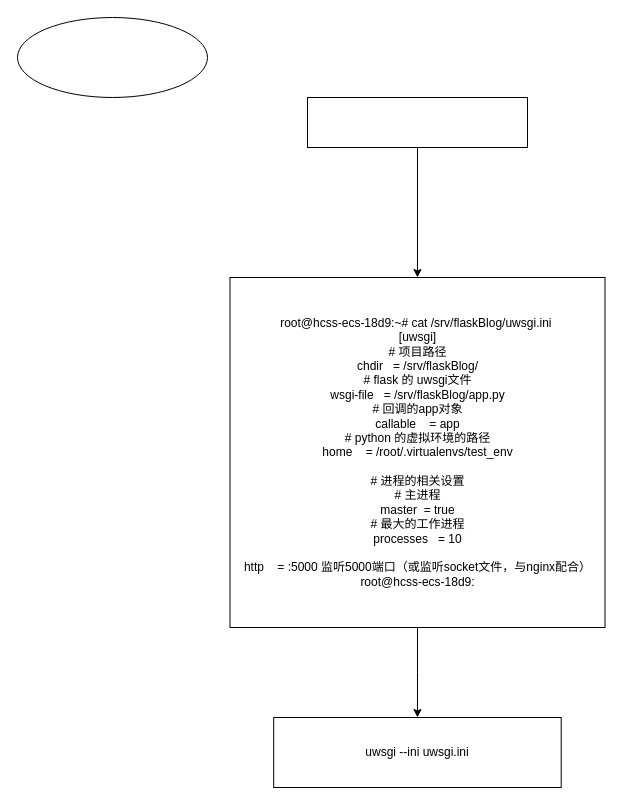
This 623x805 diagram has some shape labels left out. The shapes that lost their labels are listed below. From the top down, each one's centre as x and y in pixels, then its label:
At point 112,57: "部署到Ubuntu上接2".
At point 417,122: "pip install uwsgi".
